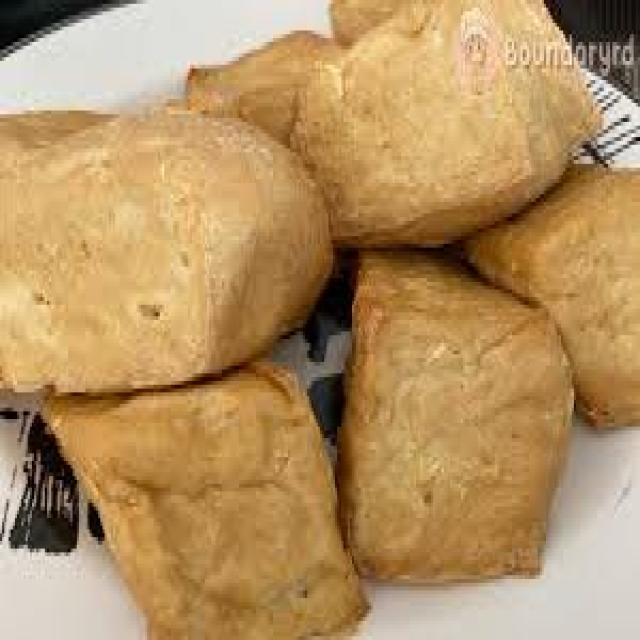Tahu Goreng: (16, 33, 511, 593)
